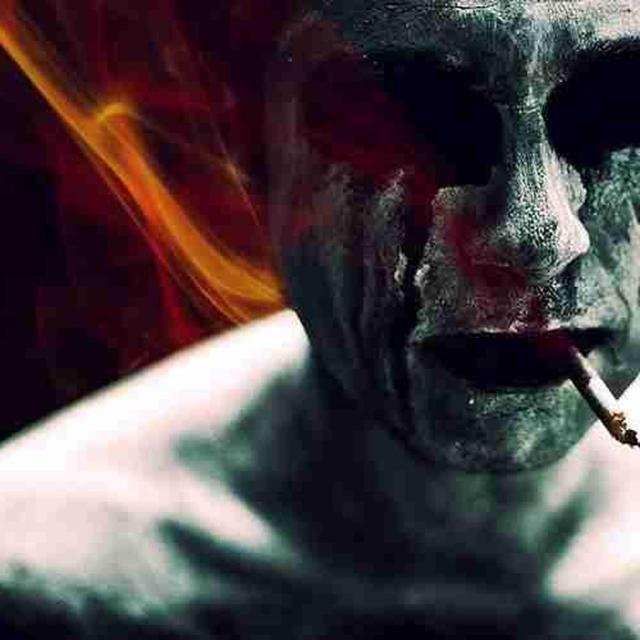smoking: (256, 0, 640, 488)
